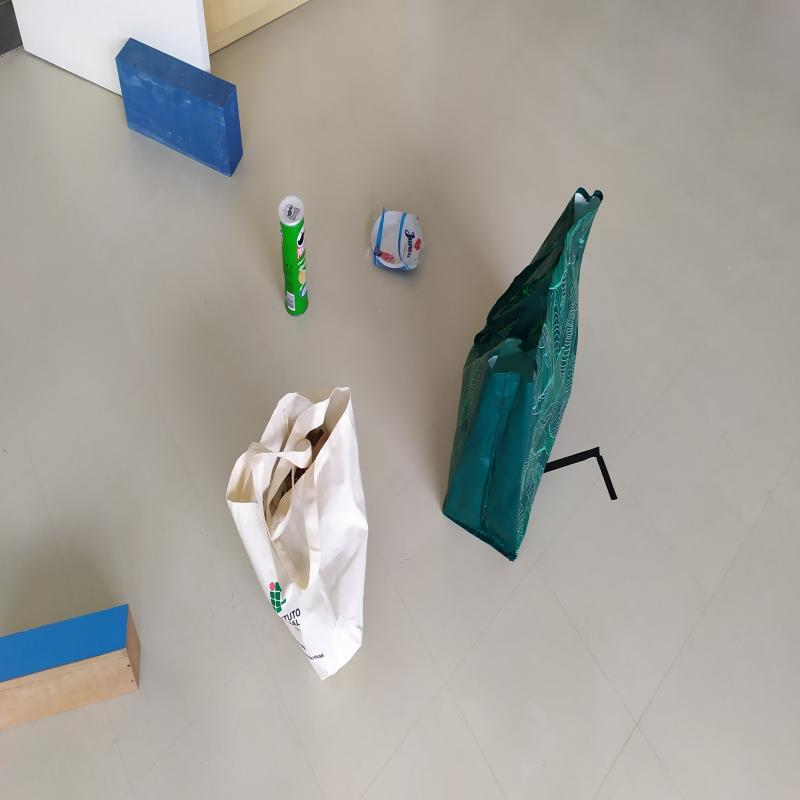Bag: (440, 188, 604, 568), (225, 376, 370, 682)
Plate: (370, 209, 426, 274)
Pringles: (278, 193, 310, 320)
